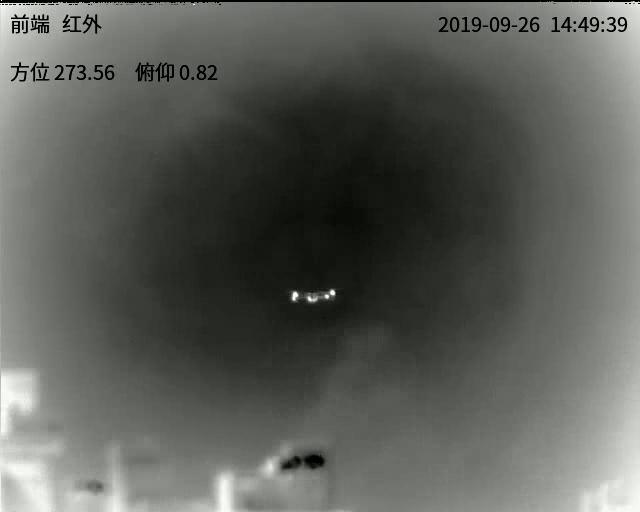DRONE: (288, 287, 337, 304)
